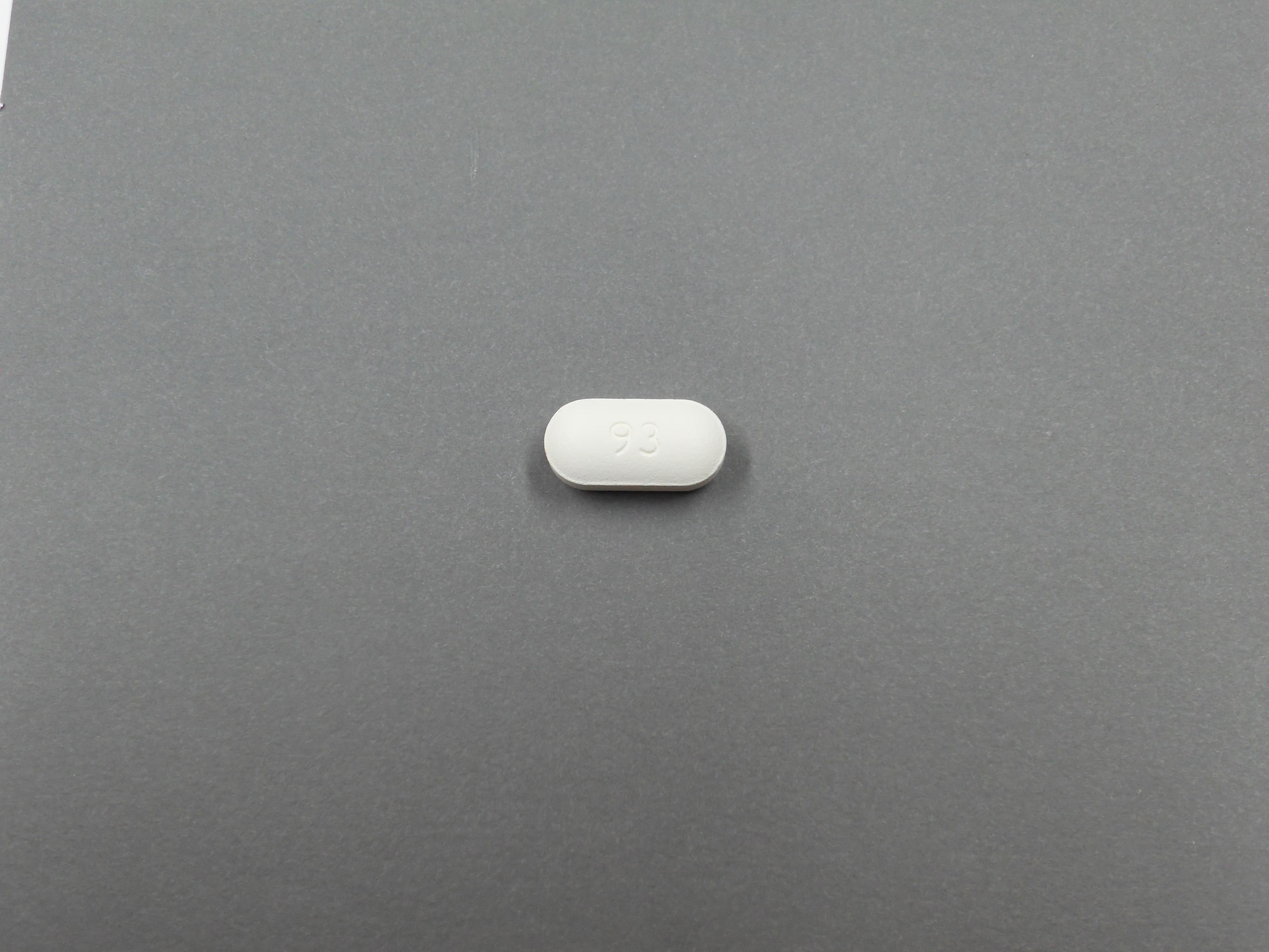Pill: (538, 390, 734, 497)
